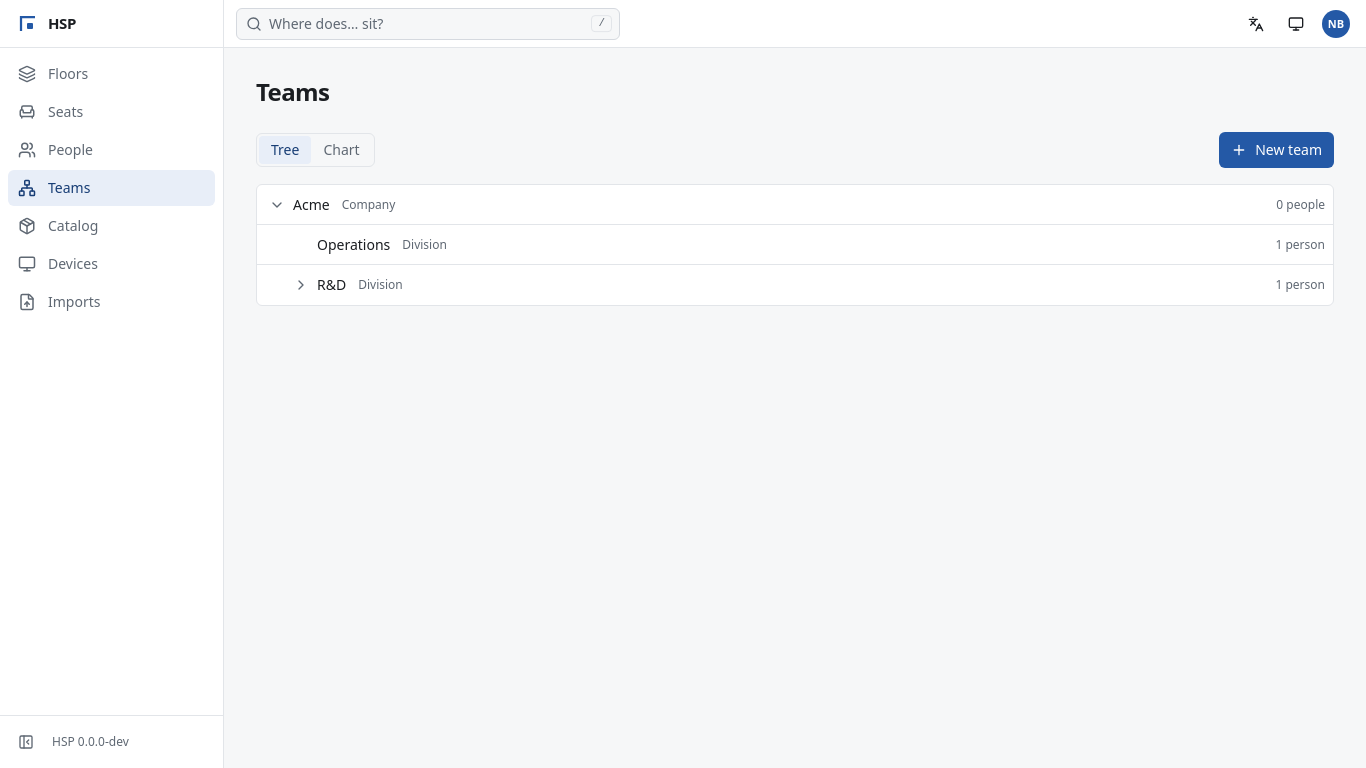
Scenario: teams (docs/0088) › shows the tree with direct member counts; teams expand and collapse
Expected: the list item "R&D Division 1 person" is shown, [257,265,1333,305]
Expected: the list item "Platform" is not shown
Click the button named "Expand R&D" at (301, 285), box [289,273,313,297]
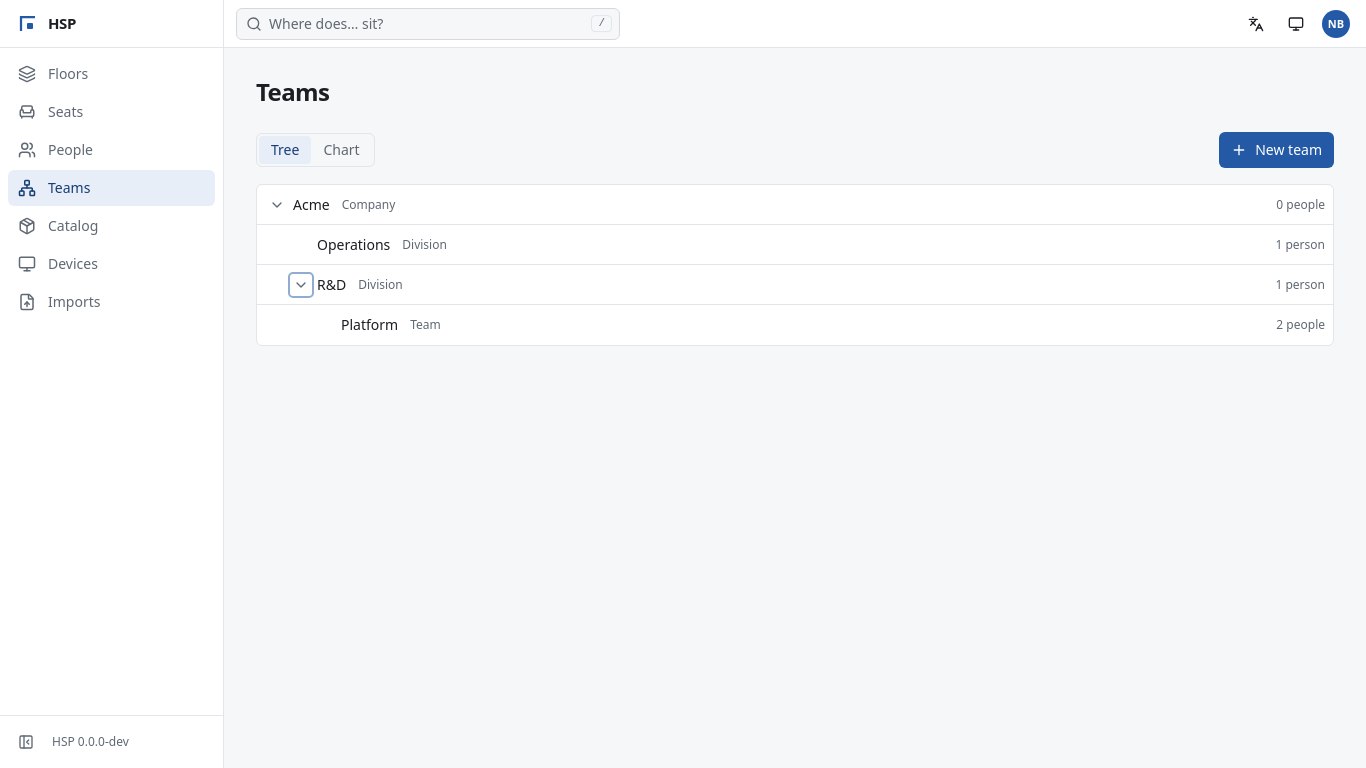
Now the list item "Platform Team 2 people" is shown, box [341,315,1325,334]
